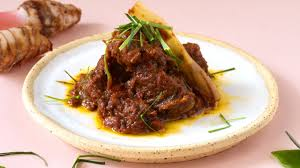rendang: (63, 7, 230, 145)
